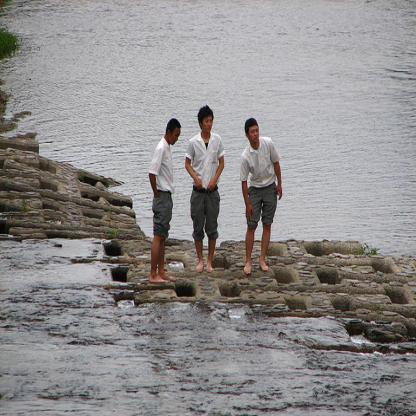face: (250, 126, 260, 142), (203, 117, 213, 133), (171, 130, 181, 145)
